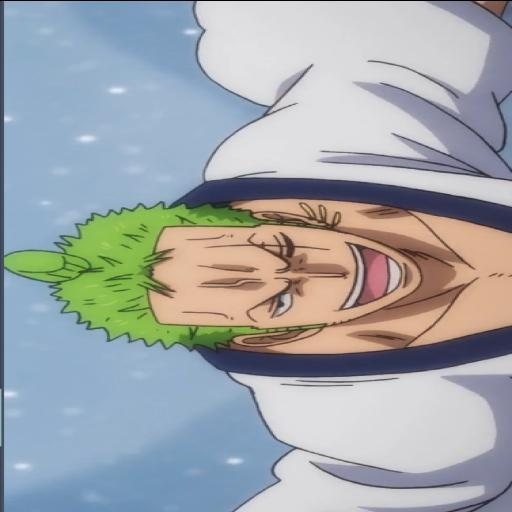Zoro: (7, 0, 512, 509)
